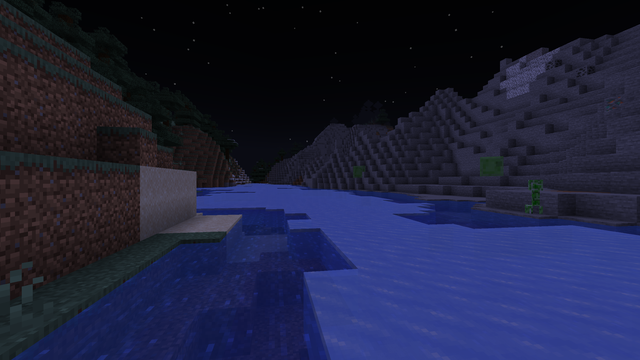creepers: (524, 178, 546, 213)
slimes: (475, 155, 508, 176), (352, 165, 366, 177)
